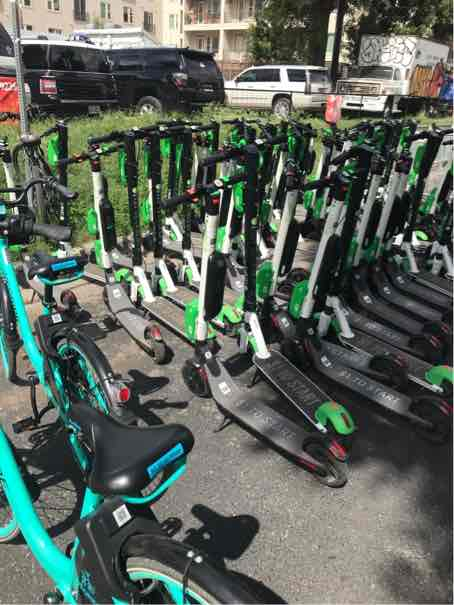scooter: (294, 120, 449, 445), (221, 116, 350, 474)
